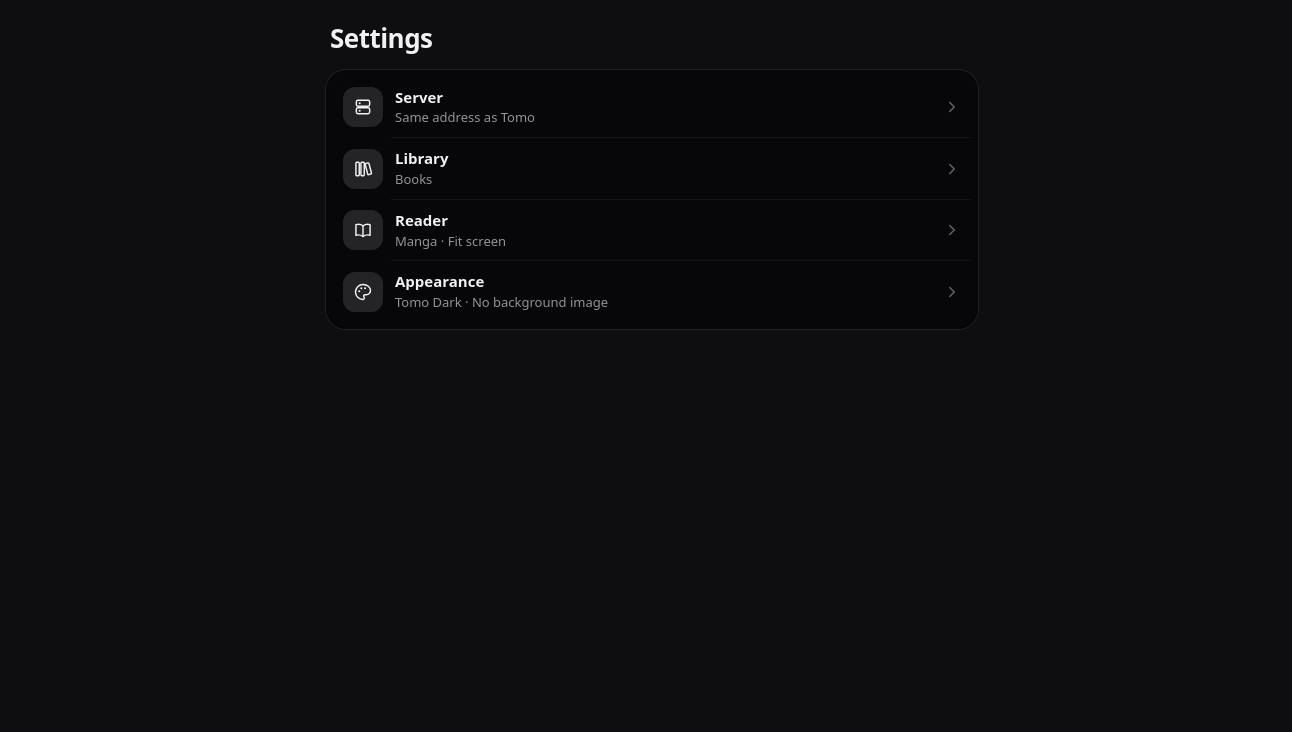
Test case: the Settings tab › opens a section
Click the link "Reader Manga · Fit screen".
click(363, 230)  # box [333,200,971,260]
(page scrolled)
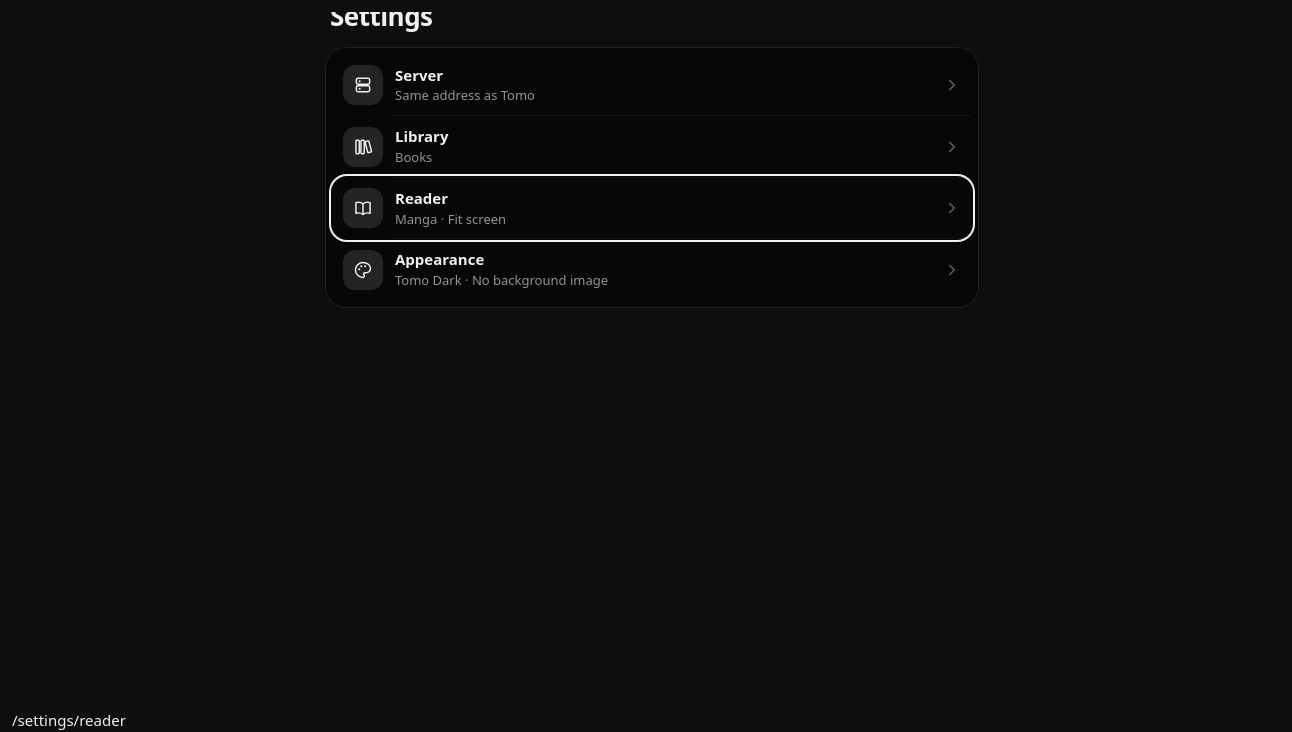
Check: the text with test id "location" reads "/settings/reader", box [12,710,126,730]
